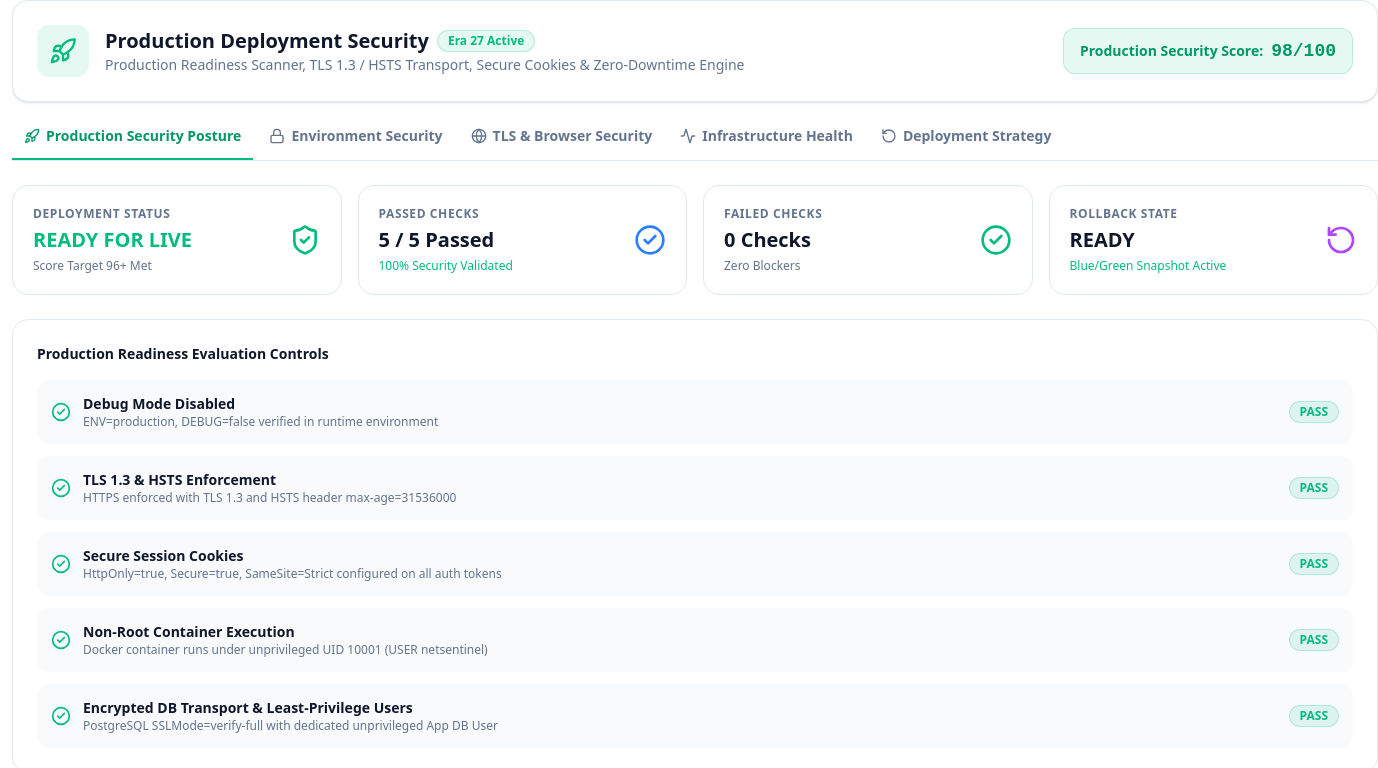
Test: ProductionDeploymentSecurityDashboard › clicking Environment Security tab shows debug mode status
Click the button "Environment Security". click: x=356, y=143
box: [257,126,455,160]
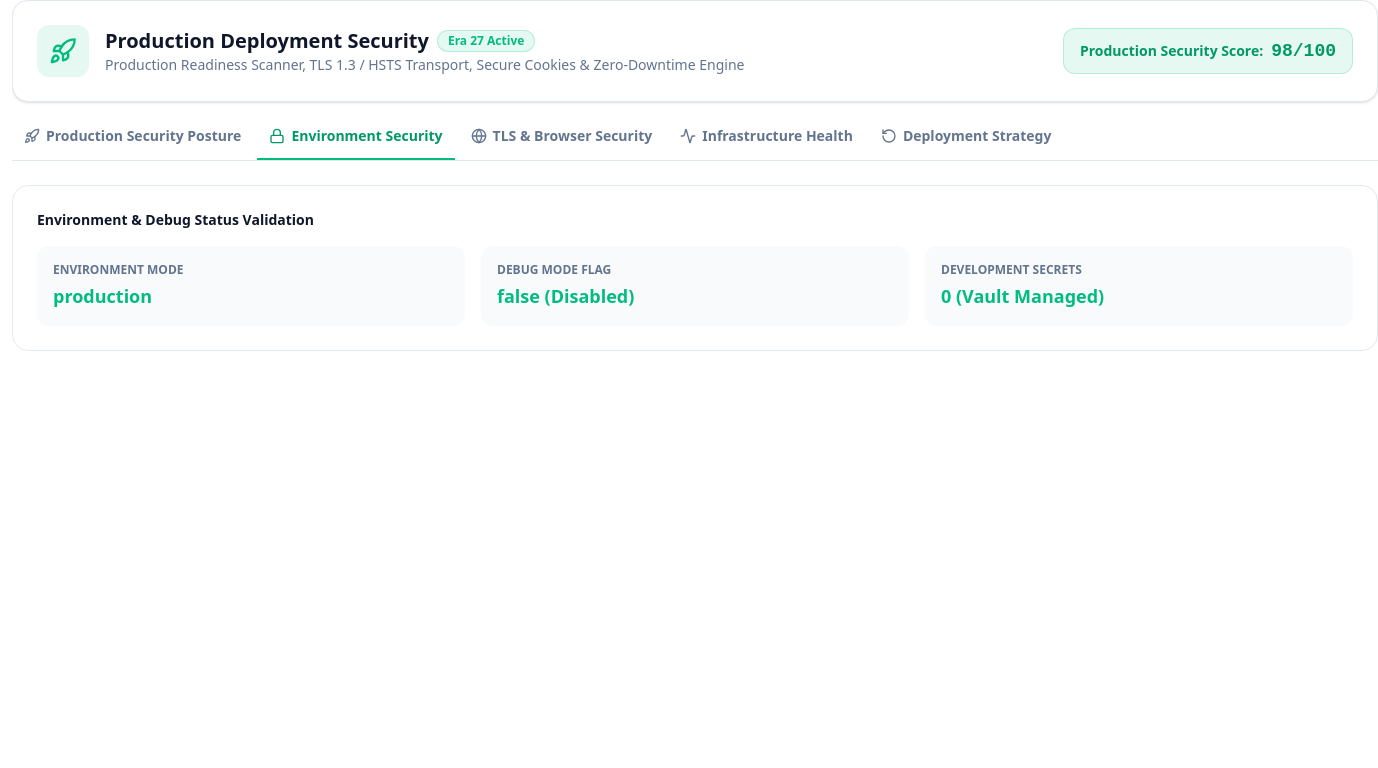
Check: the heading "Environment & Debug Status Validation" is shown, box [37,210,314,229]
Check: the text "false (Disabled)" is shown, box [497,284,634,308]
